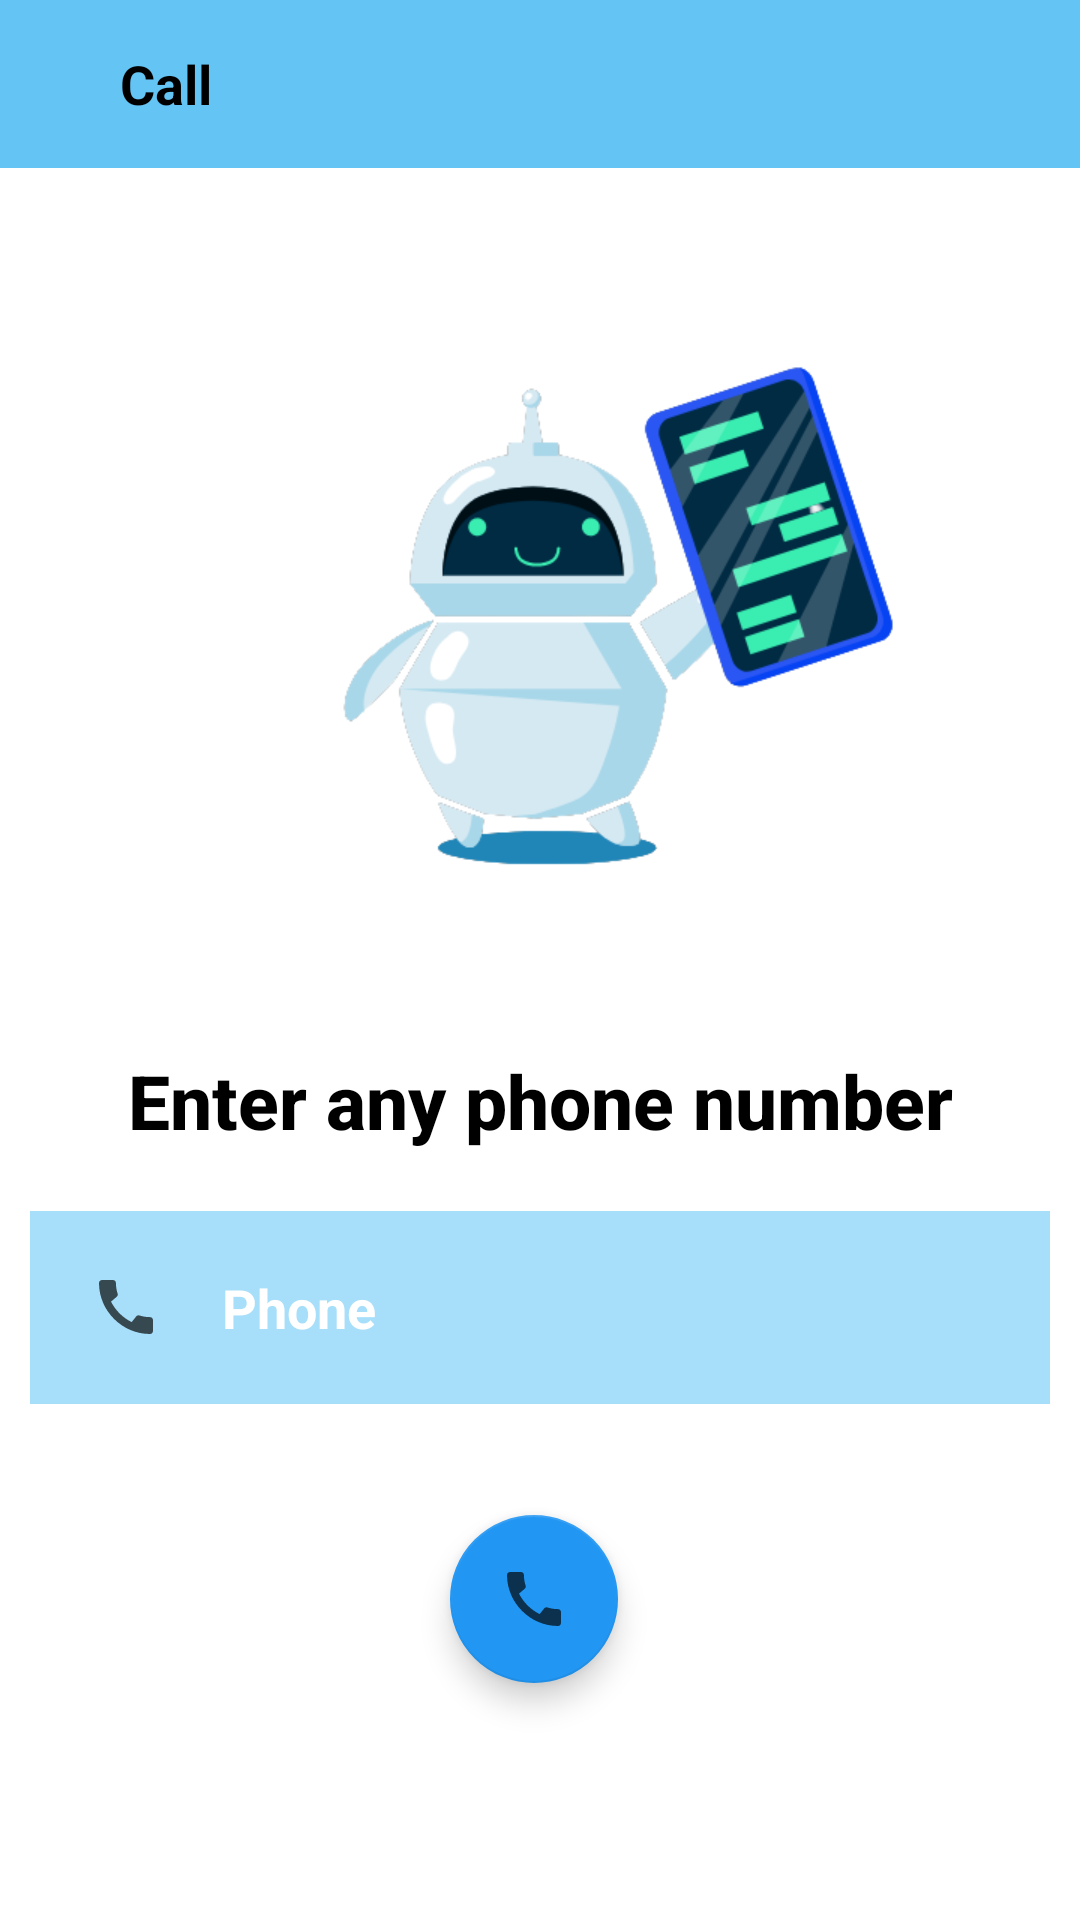

Icon bounding boxes for this 1080 × 1920 phone screenshot, format (x1, y1, x2, y2):
call: (450, 1515, 618, 1683)
